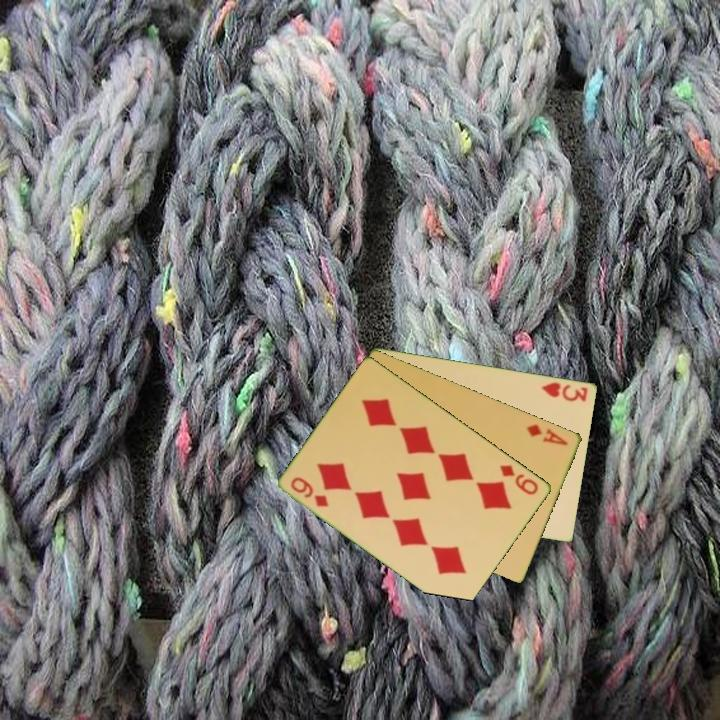3h: (538, 378, 591, 404)
9d: (497, 461, 542, 498), (287, 473, 332, 510)
Ad: (523, 420, 571, 448)
